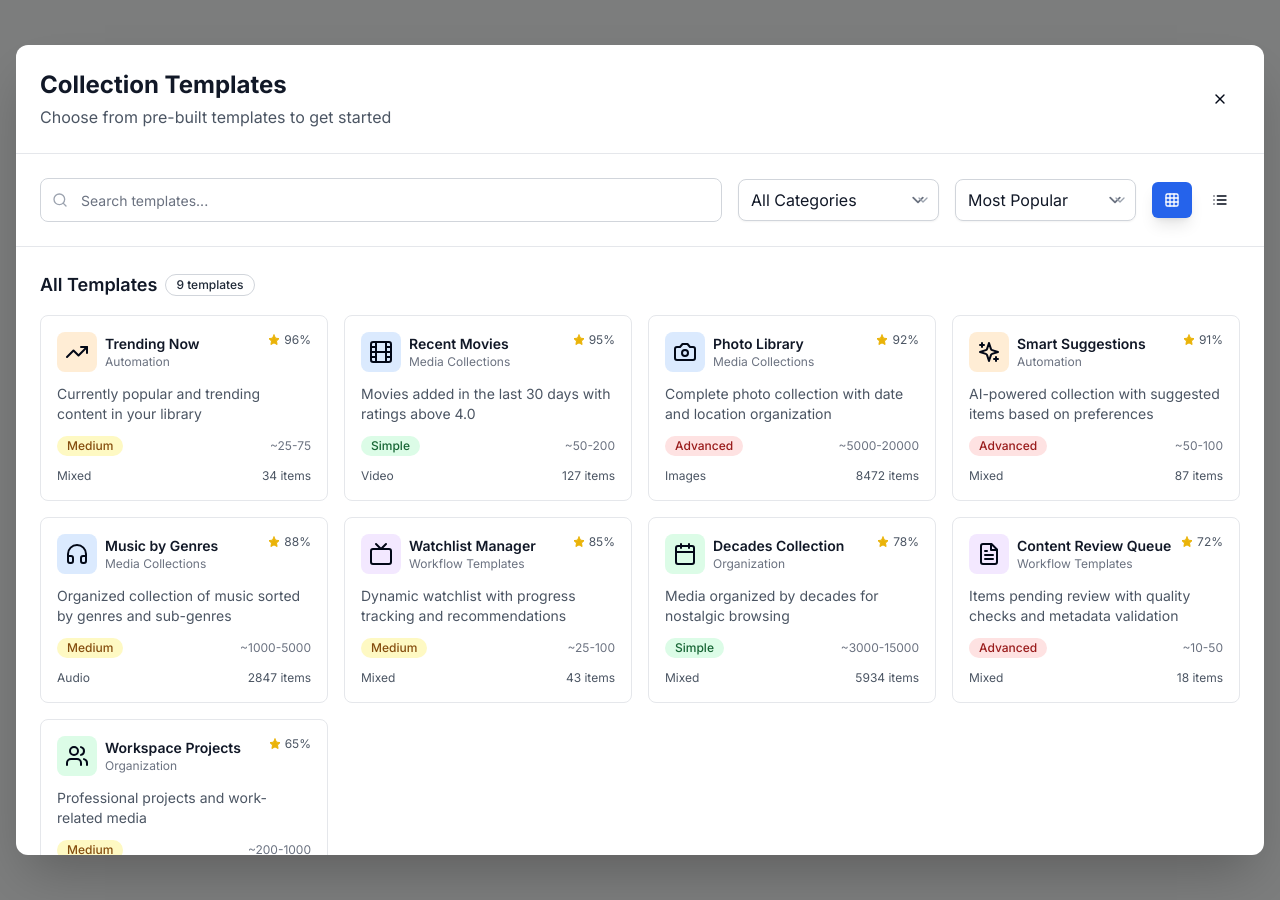
Test: CollectionTemplates › filters templates by search query
This screenshot has width=1280, height=900.
Type "movie" into the field with placeholder "Search templates..." at [381, 200], box [40,178,722,222]
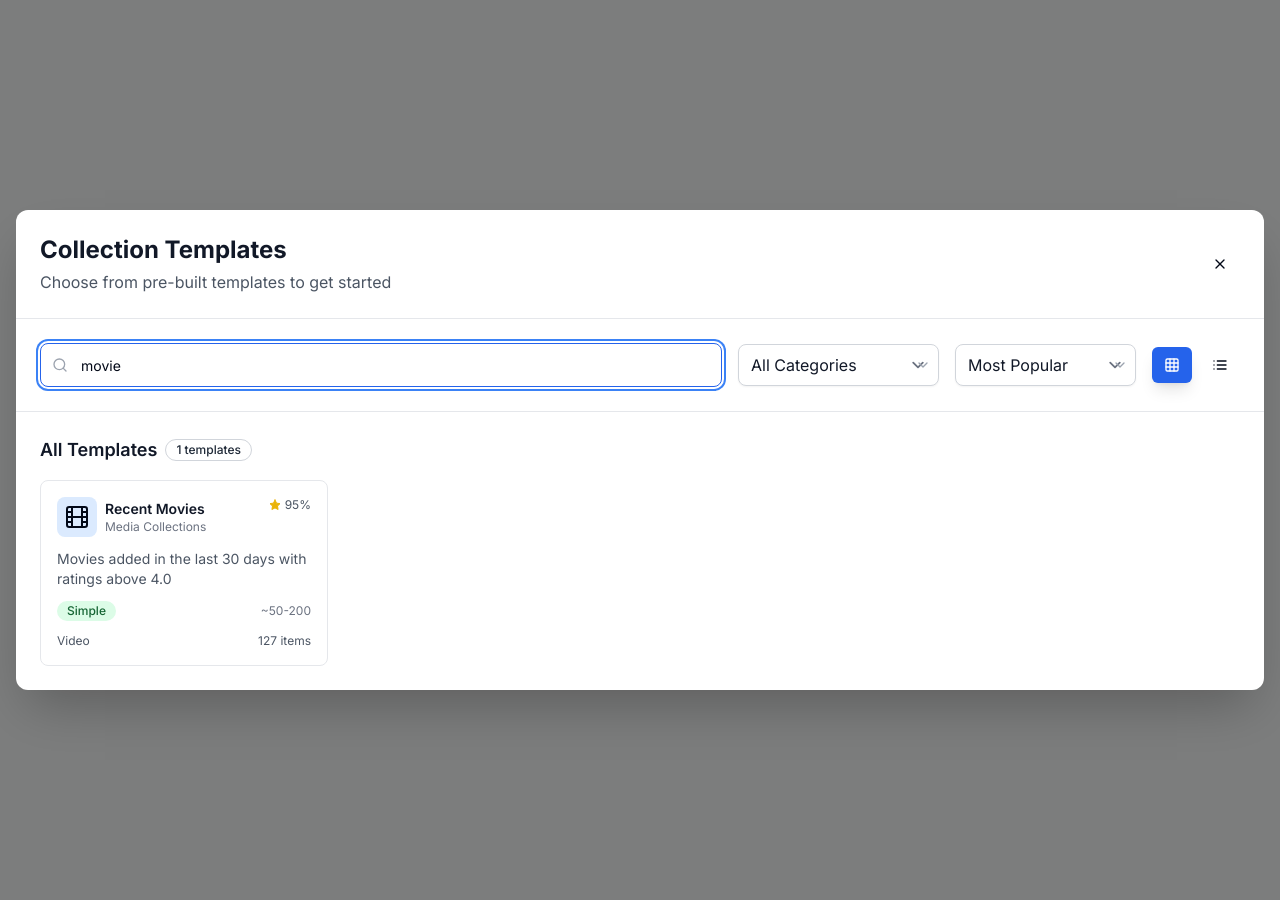
Expected: the heading "Recent Movies" is shown, [105,499,206,519]
Expected: the heading "Music by Genres" is gone
